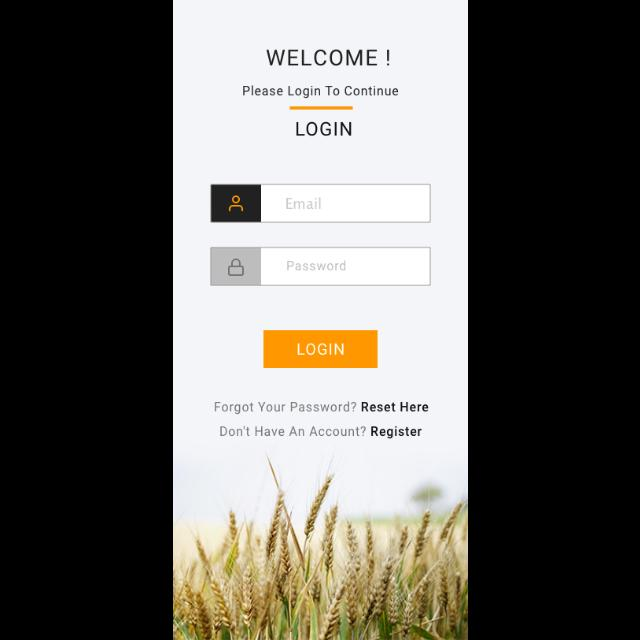backgroundimage: (173, 1, 467, 640)
icon: (228, 260, 244, 276), (229, 196, 243, 212)
image: (173, 452, 467, 640)
input: (210, 184, 430, 223), (210, 248, 430, 286)
text: (242, 86, 398, 100), (266, 50, 388, 66), (214, 402, 356, 414), (220, 427, 366, 437), (296, 123, 352, 137), (287, 260, 345, 272), (362, 402, 428, 412), (371, 426, 421, 438), (287, 198, 321, 210)
textbutton: (263, 330, 377, 368)
